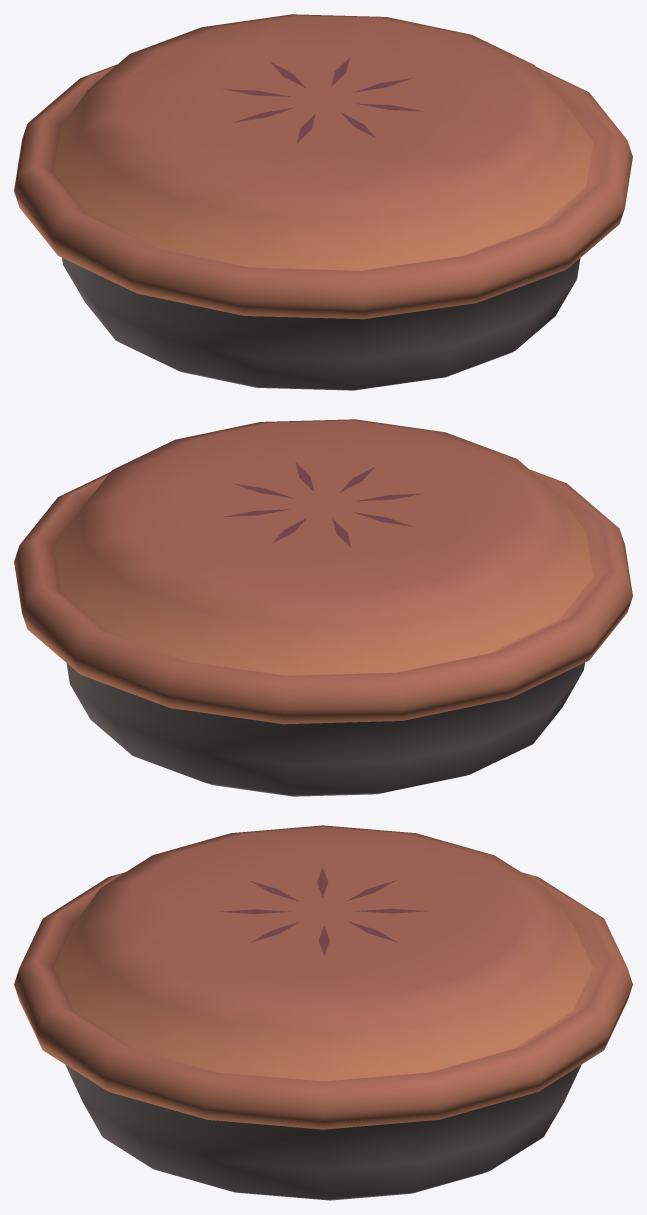
Rendered from Classic Pie.fbx.
The picture shows the model from 3 angles, top to bottom: view 1: azimuth 30°, elevation 25°; view 2: azimuth 150°, elevation 25°; view 3: azimuth 270°, elevation 25°; orthographic projection.
Visible parts, largest first — view 1: Classic Pie; view 2: Classic Pie; view 3: Classic Pie.
Boxes of the visible parts, bbox=[...] form: Classic Pie: bbox=[14, 14, 632, 390]; Classic Pie: bbox=[14, 419, 632, 796]; Classic Pie: bbox=[14, 825, 632, 1200].
Size of the model in its own units: 50.73 by 17.34 by 50.73.
